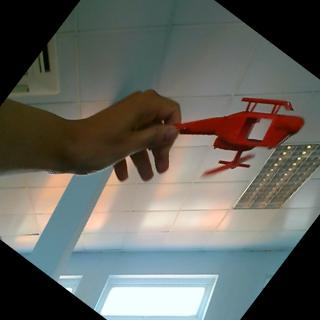Helicopter: (163, 54, 314, 210)
